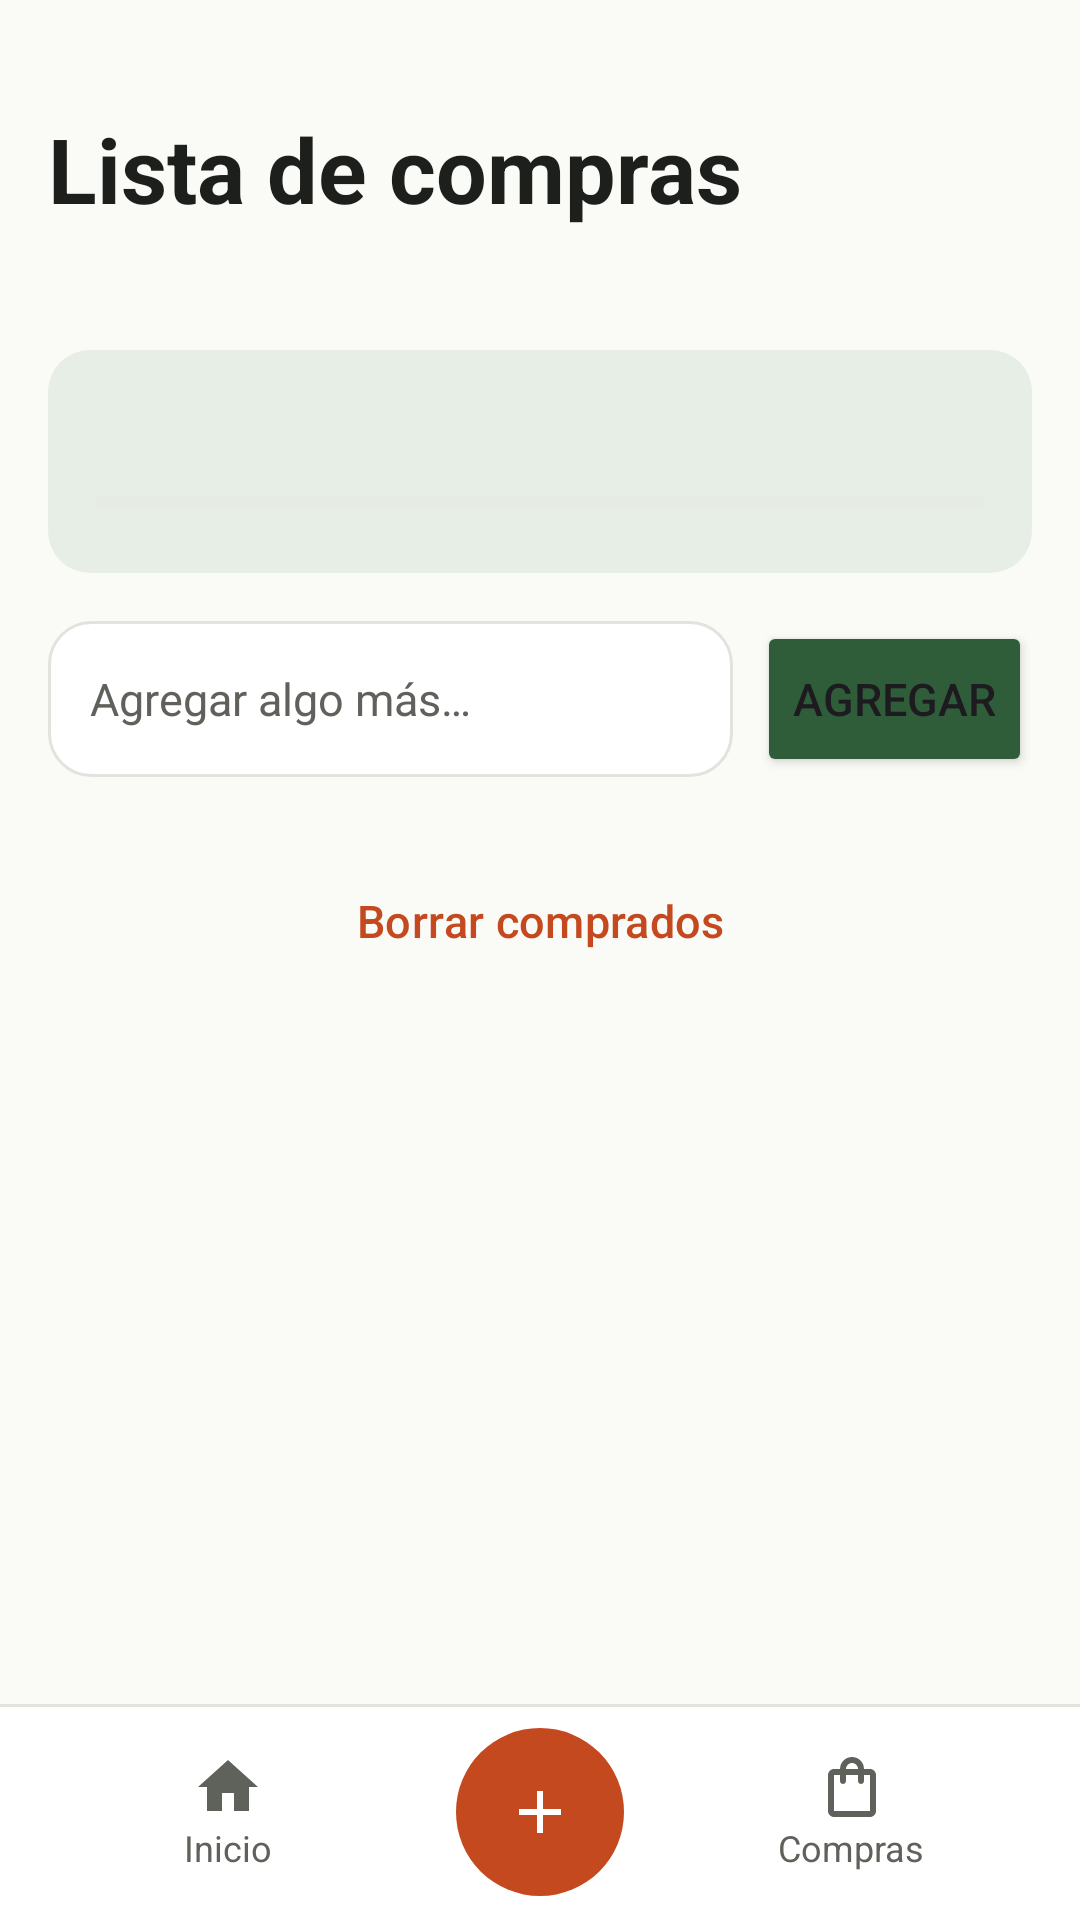

Where to tap for icons on this 1080*1920 app screen, as (x=x, y=y):
Nueva receta: (x=540, y=1812)
